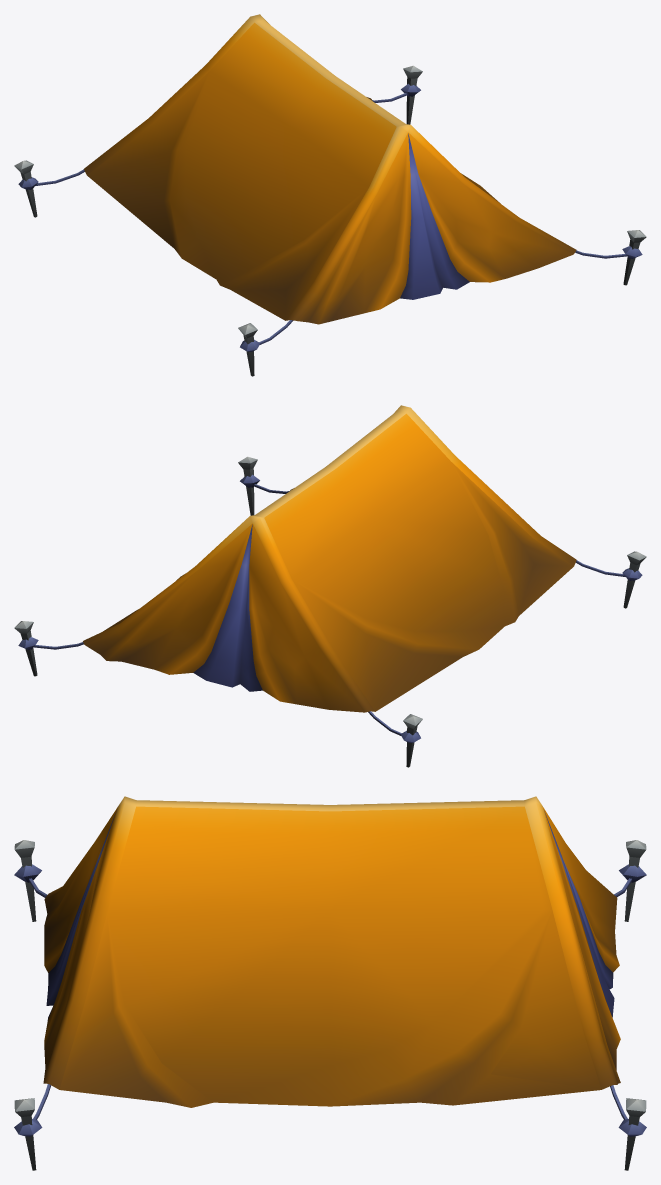
File: Tent_2A.fbx
3 views of the same model, one above another, from view 1: azimuth 30°, elevation 25°; view 2: azimuth 150°, elevation 25°; view 3: azimuth 270°, elevation 25° (orthographic). The views are drawn at different scales.
Visible parts, largest first — view 1: Tent_2A; view 2: Tent_2A; view 3: Tent_2A.
Part boxes in pixels (box(x1,y1,x2,y2)): Tent_2A: box(14, 14, 646, 376); Tent_2A: box(14, 405, 646, 767); Tent_2A: box(14, 796, 646, 1170).
Bounding box in the file's own units: 418 × 179 × 418.
